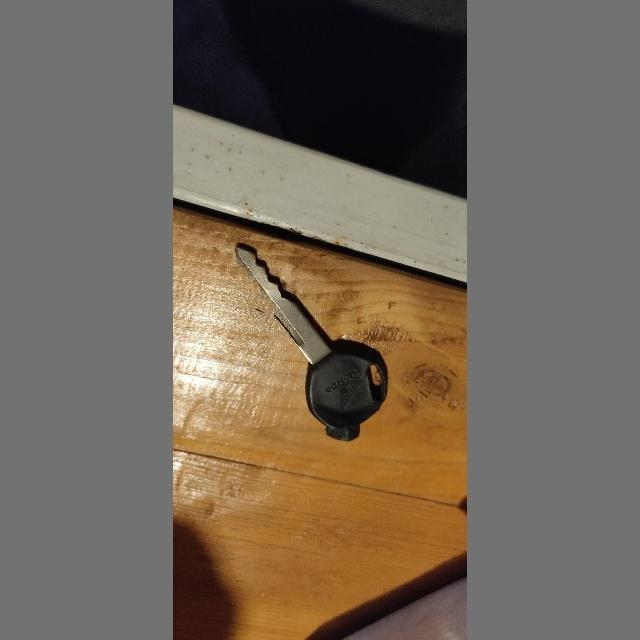Keys: (232, 240, 392, 444)
